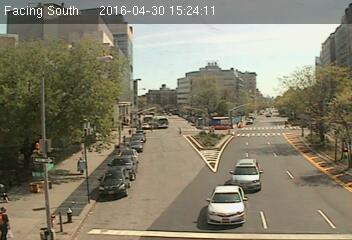neg: (308, 151, 341, 195), (35, 36, 62, 73), (197, 89, 218, 116), (264, 149, 285, 176), (95, 28, 111, 50), (135, 180, 149, 199), (162, 20, 176, 39), (313, 110, 326, 127), (205, 14, 217, 32), (278, 22, 290, 37), (236, 90, 246, 103), (241, 149, 250, 161), (203, 162, 211, 173), (138, 148, 146, 159), (173, 176, 181, 186), (157, 105, 164, 115), (264, 68, 270, 76), (313, 72, 318, 79), (223, 48, 226, 52)
pos: (72, 156, 89, 178), (283, 120, 291, 130), (177, 127, 184, 137)
